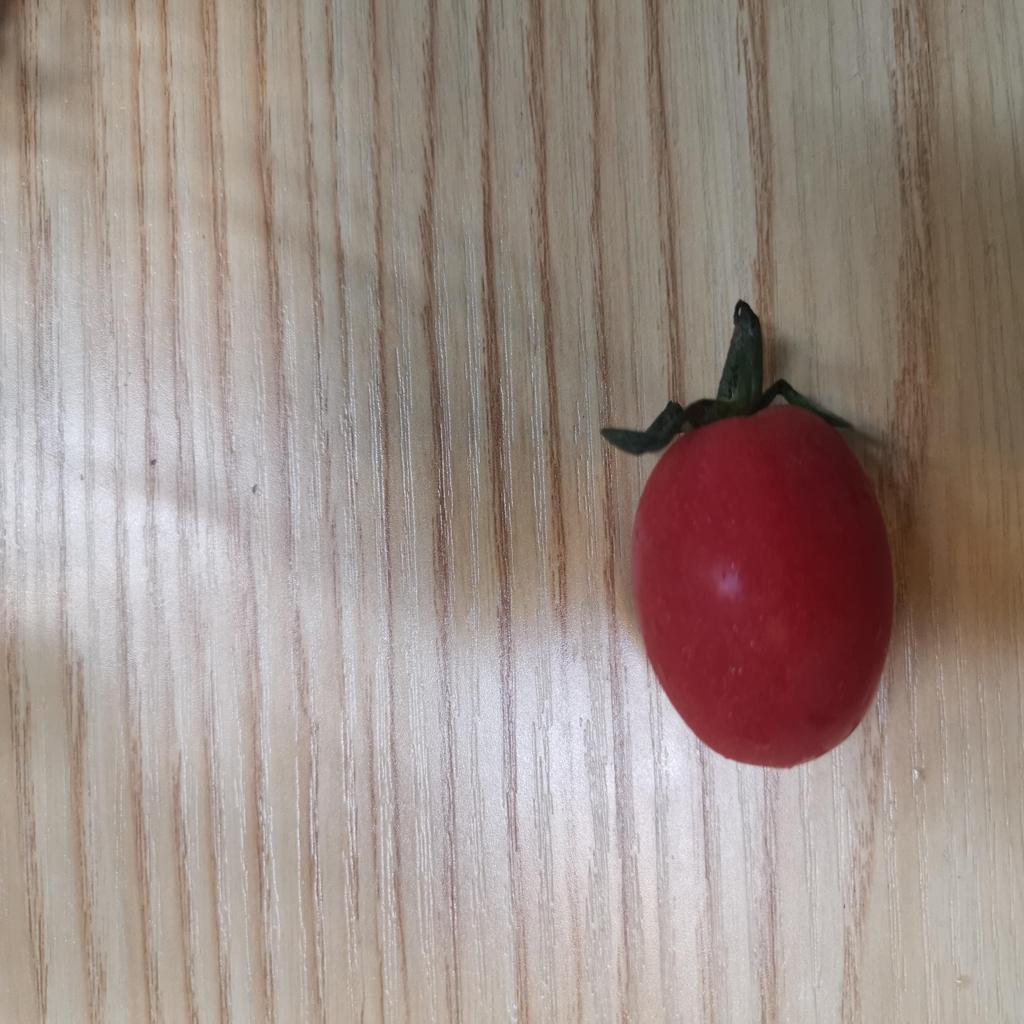tomato: (604, 373, 910, 787)
